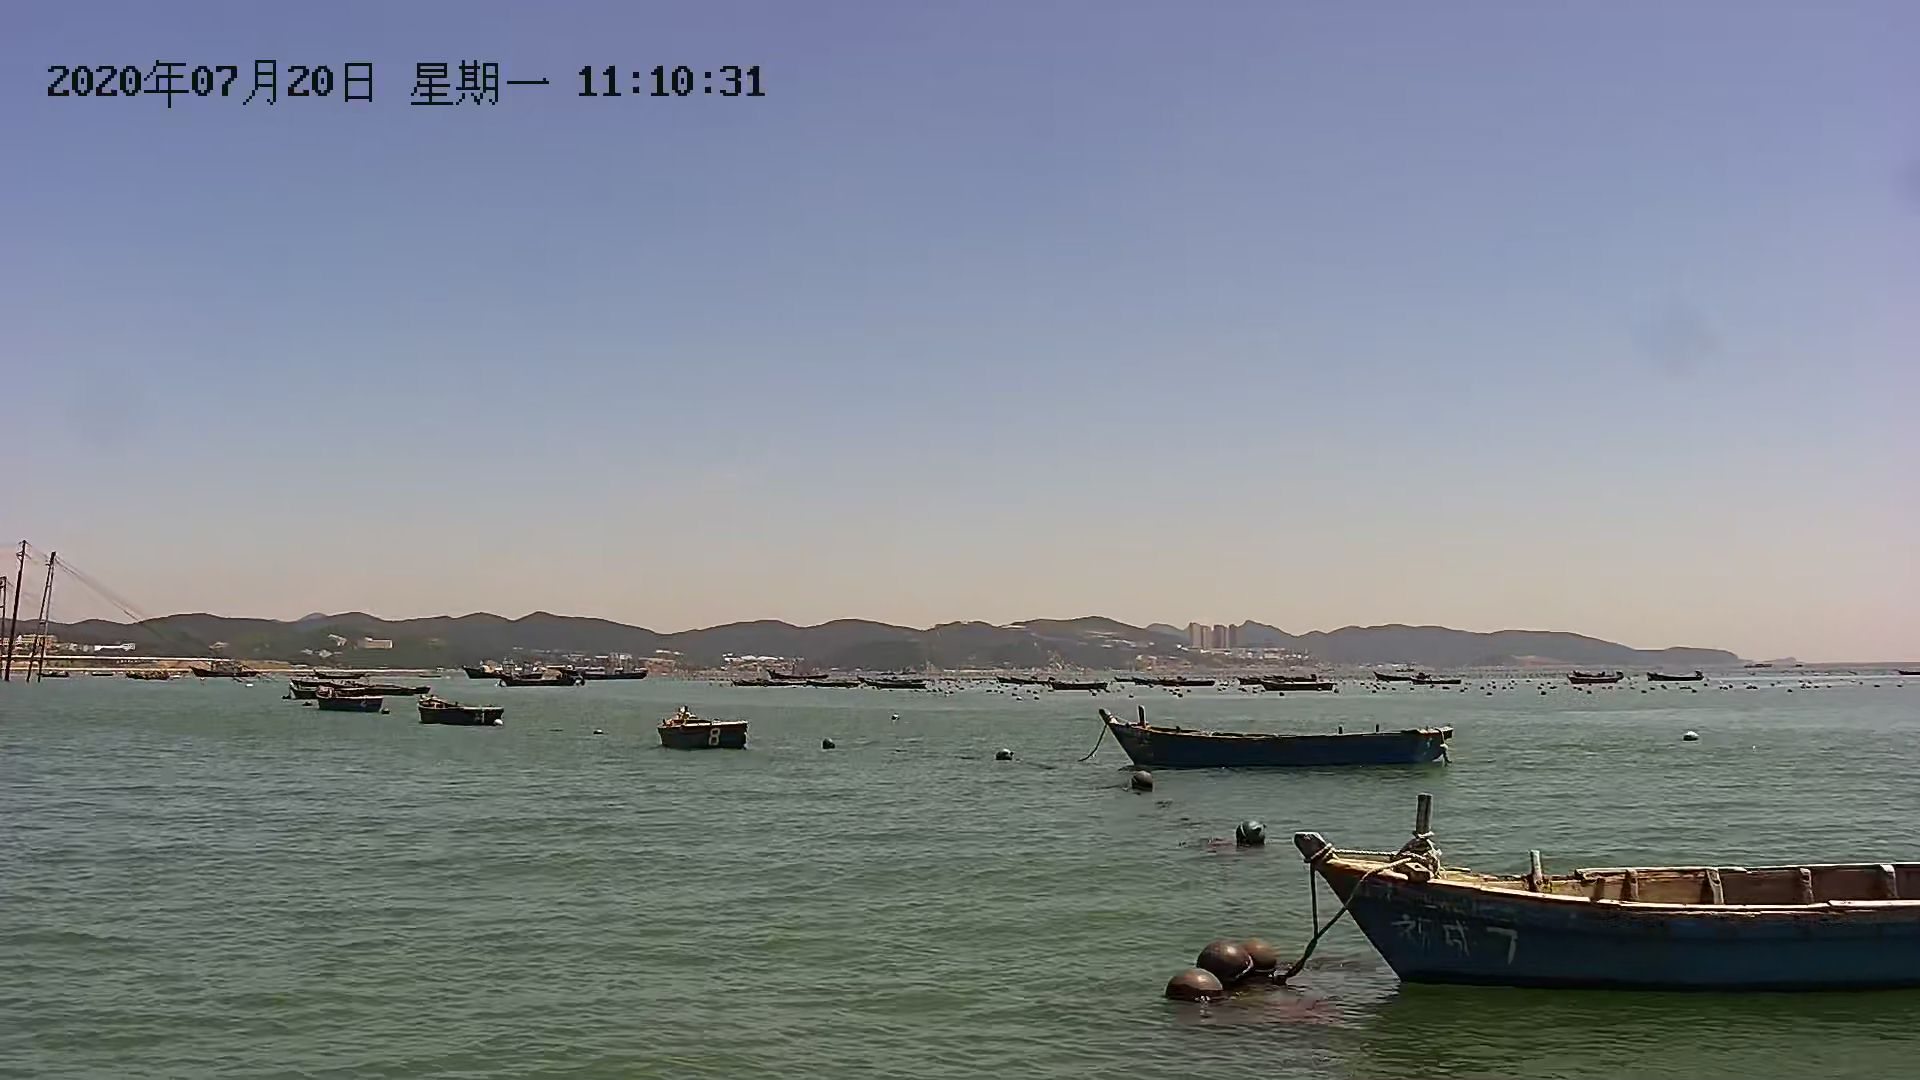ball: (1071, 690, 1466, 775), (658, 700, 756, 756), (414, 698, 517, 731), (1192, 939, 1255, 986), (313, 686, 389, 723), (1168, 968, 1240, 1006), (1247, 931, 1296, 980), (1228, 819, 1269, 849), (1131, 769, 1162, 794), (993, 746, 1025, 764), (822, 738, 849, 754)
boat: (1284, 827, 1920, 971), (1283, 825, 1917, 969)
